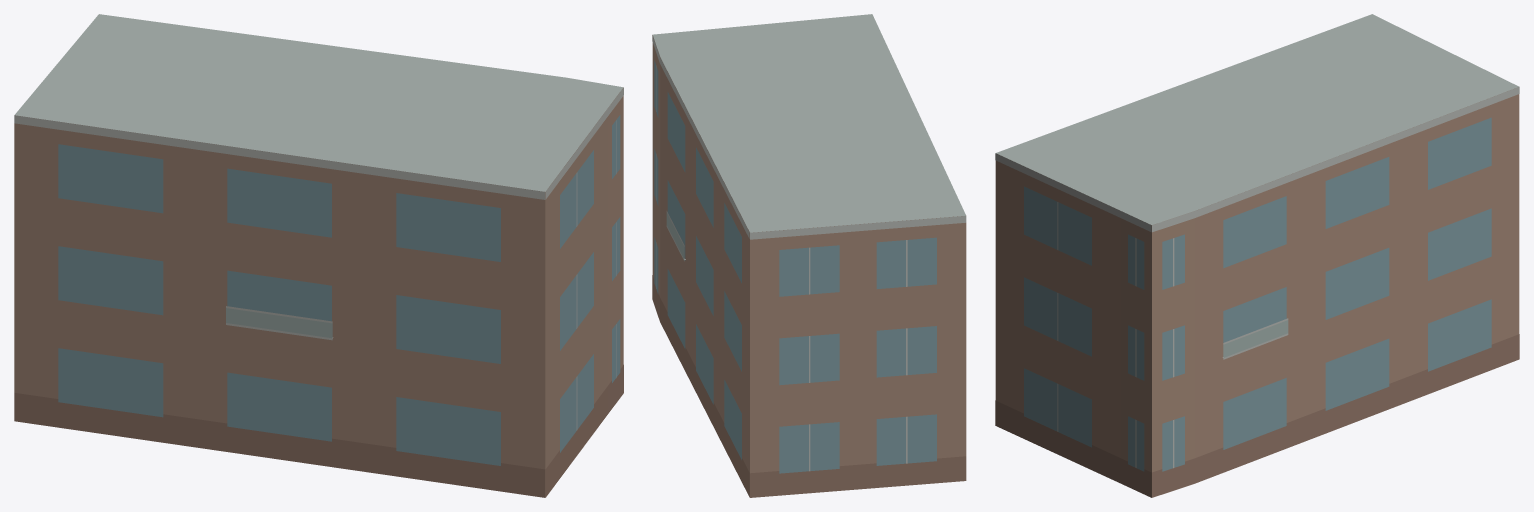
Rendered from survey-upis-32813536.glb.
3 renders of one model, left to right at view 1: azimuth 30°, elevation 25°; view 2: azimuth 150°, elevation 25°; view 3: azimuth 270°, elevation 25°, orthographic. The views are drawn at different scales.
Visible parts, largest first — view 1: survey-upis-32813536.tmp; view 2: survey-upis-32813536.tmp; view 3: survey-upis-32813536.tmp.
Boxes of the visible parts, x1,y1,x2,y2 form: survey-upis-32813536.tmp: (14, 14, 623, 497); survey-upis-32813536.tmp: (652, 14, 966, 497); survey-upis-32813536.tmp: (995, 14, 1519, 497).
Bounding box in the file's own units: 15.29 × 9.2 × 16.03.
